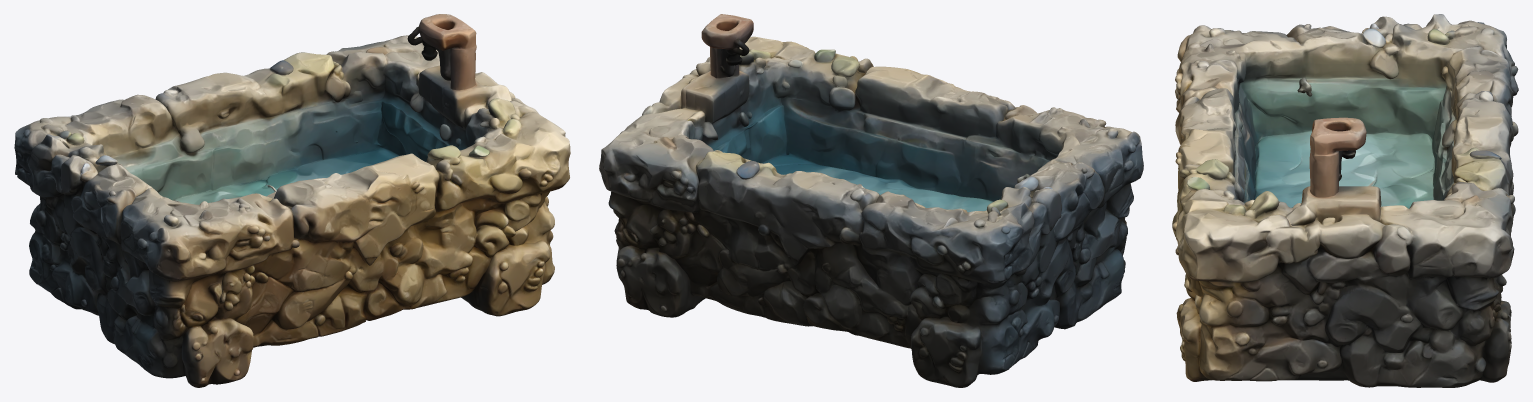
File: rural-stone-trough.glb
3 renders of one model, left to right at view 1: azimuth 30°, elevation 25°; view 2: azimuth 150°, elevation 25°; view 3: azimuth 270°, elevation 25°, orthographic. The views are drawn at different scales.
Parts seen in each view (by area): view 1: tripo_node_a2cec73c-6f47-4a20-99f4-bf7ca613cf58; view 2: tripo_node_a2cec73c-6f47-4a20-99f4-bf7ca613cf58; view 3: tripo_node_a2cec73c-6f47-4a20-99f4-bf7ca613cf58.
Part boxes in pixels (<box>): tripo_node_a2cec73c-6f47-4a20-99f4-bf7ca613cf58: <box>14,14,570,387</box>; tripo_node_a2cec73c-6f47-4a20-99f4-bf7ca613cf58: <box>599,14,1143,387</box>; tripo_node_a2cec73c-6f47-4a20-99f4-bf7ca613cf58: <box>1172,14,1518,387</box>.
Bounding box in the file's own units: 1 × 0.5402 × 0.6842.
Materials: 1 (1 with a texture image).
